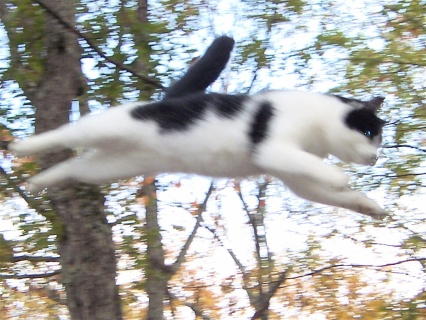Cat: (0, 27, 393, 219)
